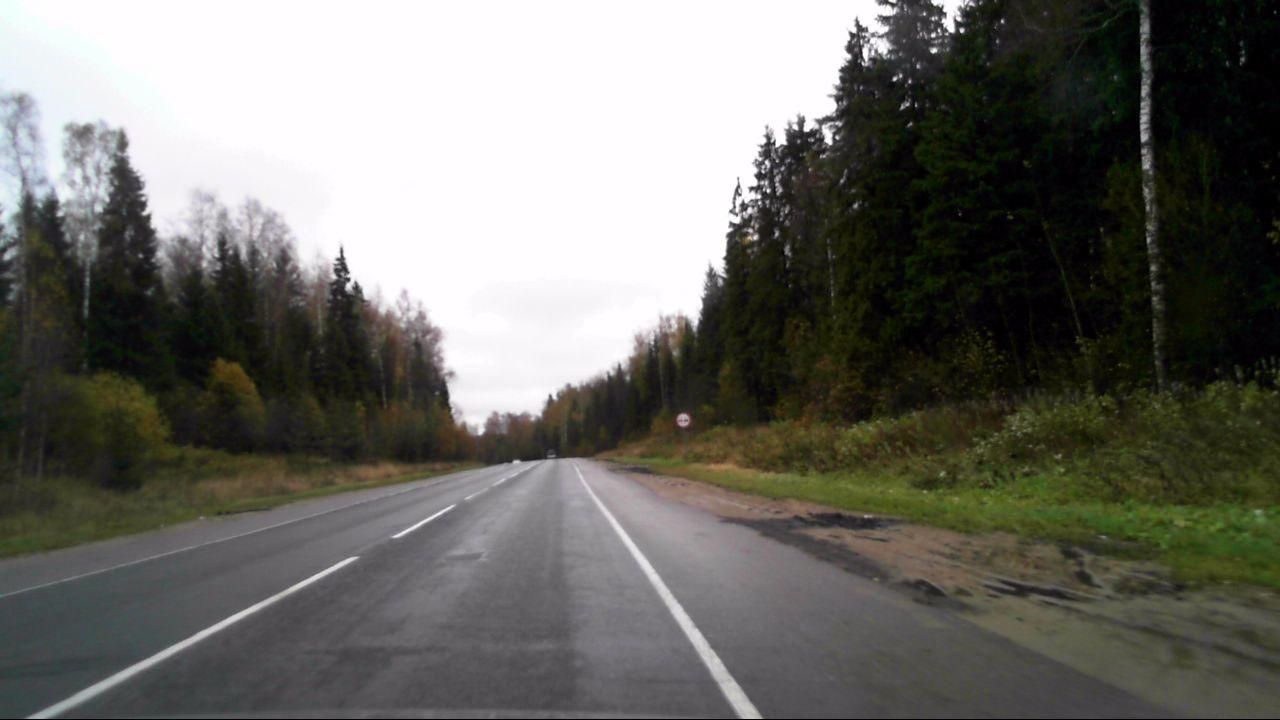road_sign: (674, 412, 693, 429)
